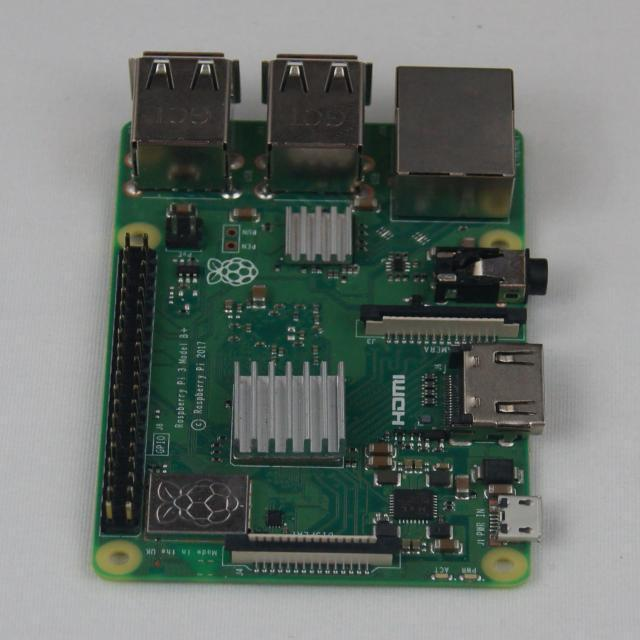Raspberry Pi 3 B-: (94, 52, 549, 587)
